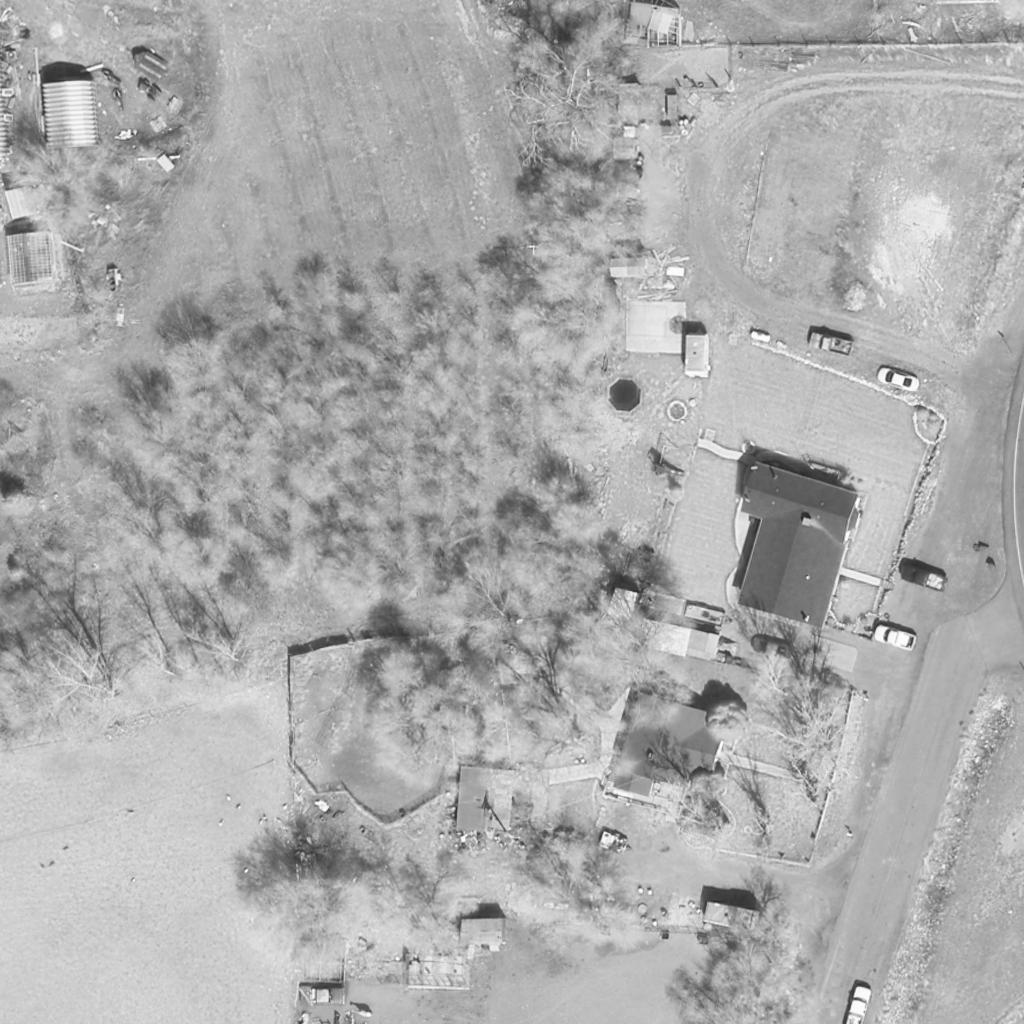vehicle: (701, 900, 761, 936), (898, 566, 948, 594), (808, 329, 854, 359), (749, 632, 795, 662), (874, 624, 918, 654), (876, 367, 922, 393), (685, 336, 711, 378), (845, 985, 873, 1024)
